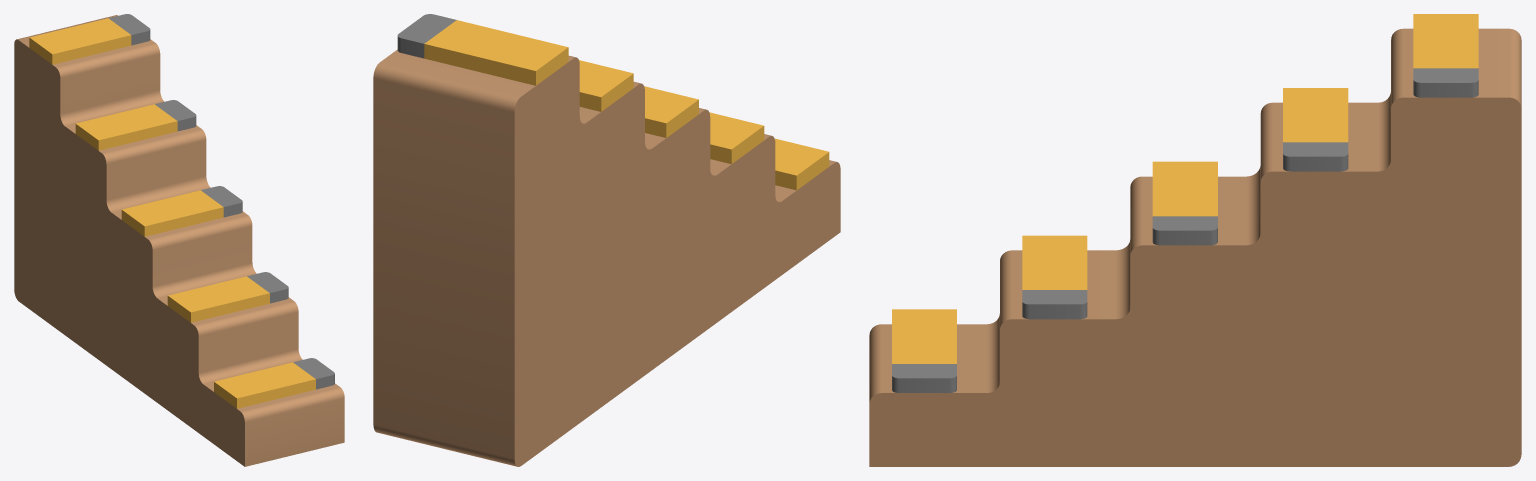
Rendered from Fans Tribune C.fbx.
3 views of the same model, side by side, from view 1: azimuth 30°, elevation 25°; view 2: azimuth 150°, elevation 25°; view 3: azimuth 270°, elevation 25° (orthographic). The views are drawn at different scales.
Parts seen in each view (by area): view 1: Fans Tribune C; view 2: Fans Tribune C; view 3: Fans Tribune C.
Part boxes in pixels (x1,y1,x2,y2): Fans Tribune C: (14, 14, 344, 466); Fans Tribune C: (373, 14, 840, 466); Fans Tribune C: (869, 14, 1521, 466).
Size of the model in its own units: 136 by 354 by 544.
